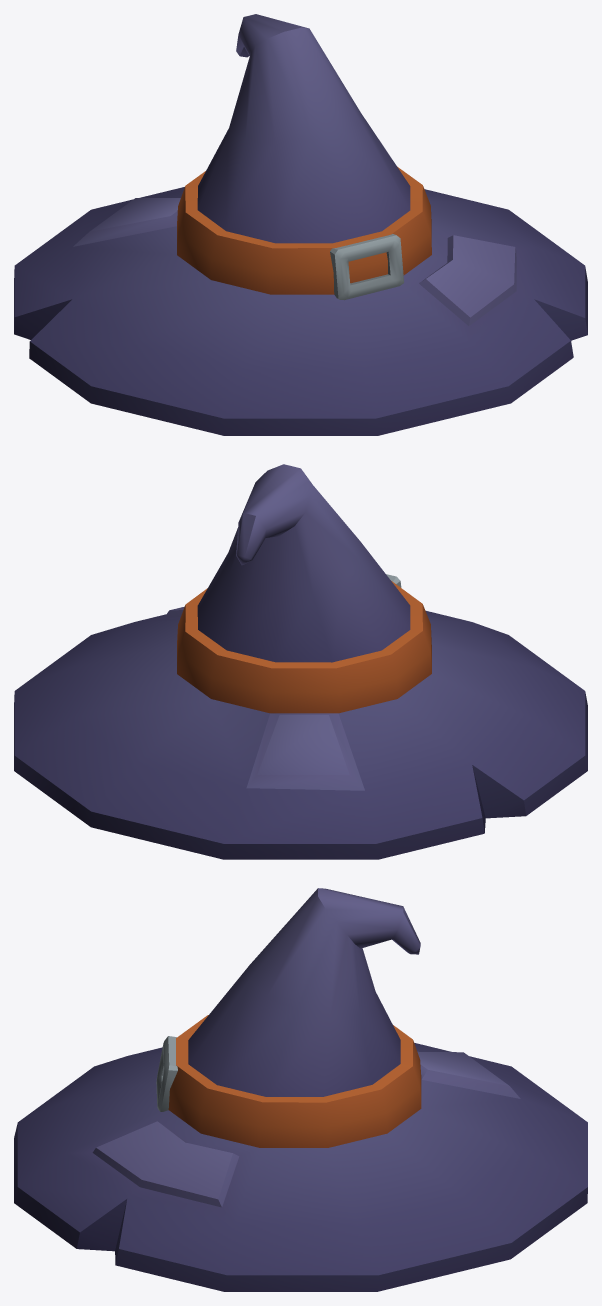
File: p-chapeau.glb
3 renders of one model, top to bottom at view 1: azimuth 30°, elevation 25°; view 2: azimuth 150°, elevation 25°; view 3: azimuth 270°, elevation 25°, orthographic.
Parts seen in each view (by area): view 1: Mage_Hat; view 2: Mage_Hat; view 3: Mage_Hat.
Part boxes in pixels (box(x1,y1,x2,y2)): Mage_Hat: box(14, 14, 587, 435); Mage_Hat: box(14, 464, 587, 859); Mage_Hat: box(14, 888, 587, 1291).
Bounding box in the file's own units: 2.09 × 1.13 × 2.09.
